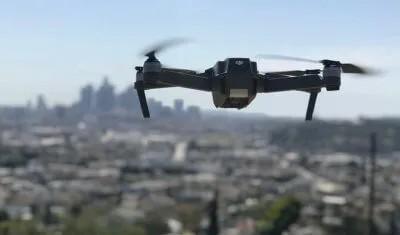maybay_khongnguoilai: (125, 38, 357, 120)
